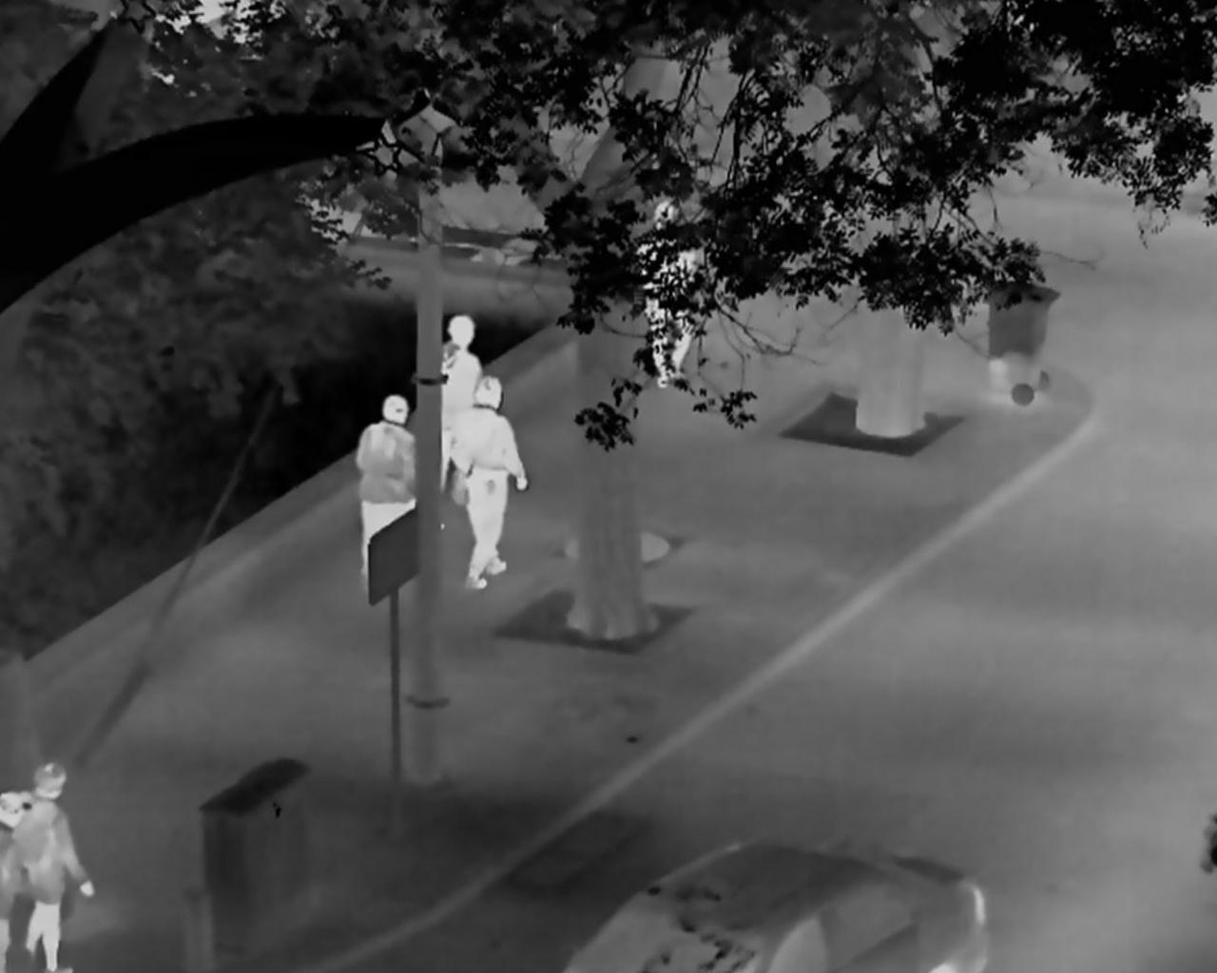person: (450, 375, 531, 591), (13, 760, 95, 973), (635, 200, 702, 391), (356, 394, 419, 593), (441, 312, 485, 493)
